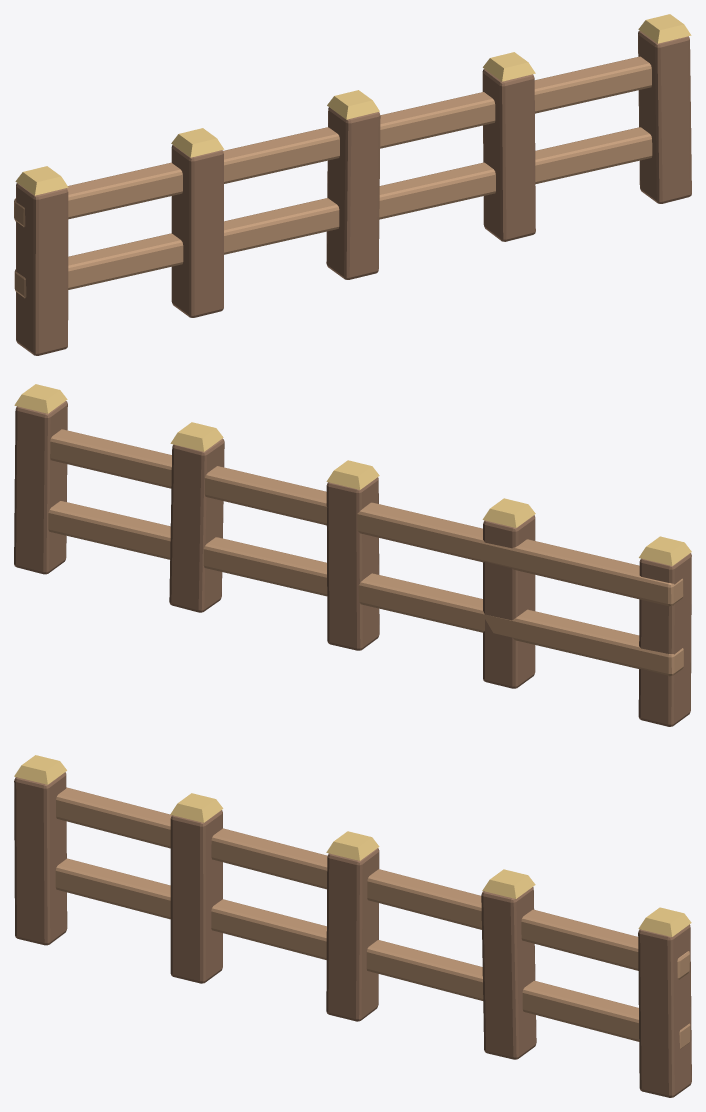
The model's file is Kit_Railing.fbx.
3 renders of one model, top to bottom at view 1: azimuth 30°, elevation 25°; view 2: azimuth 150°, elevation 25°; view 3: azimuth 330°, elevation 25°, orthographic.
Visible parts, largest first — view 1: Kit_Railing; view 2: Kit_Railing; view 3: Kit_Railing.
Boxes of the visible parts, x1,y1,x2,y2 form: Kit_Railing: (14, 14, 691, 355); Kit_Railing: (14, 384, 691, 726); Kit_Railing: (14, 755, 691, 1097).
Size of the model in its own units: 4 by 1 by 0.2375.
